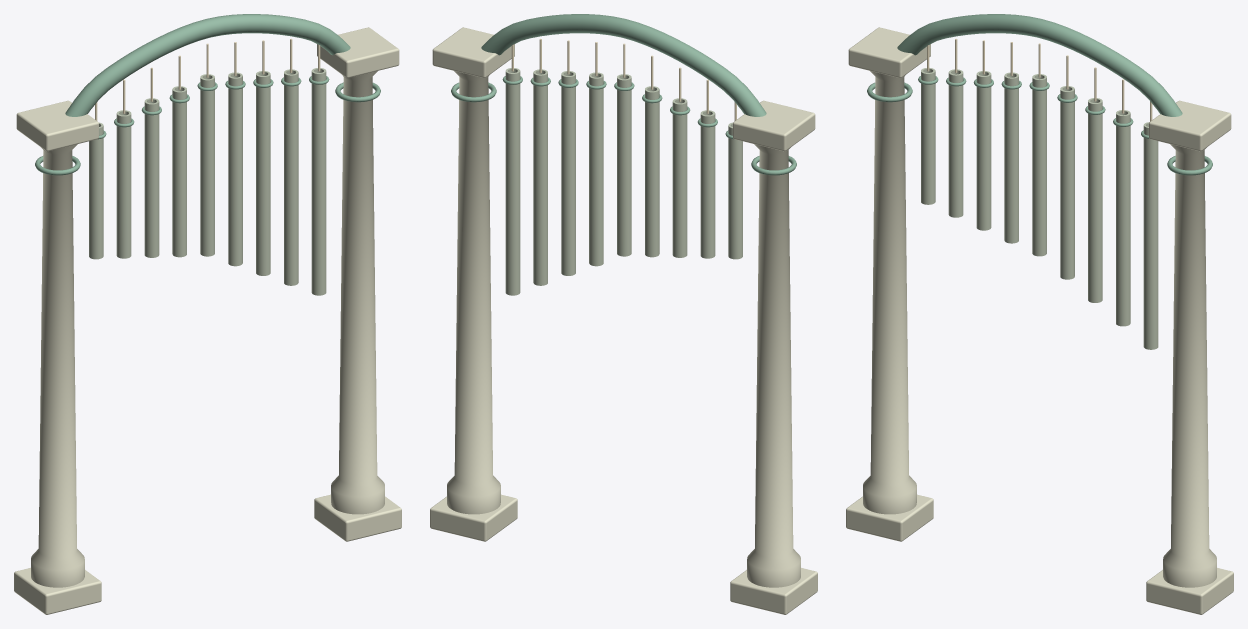
Rendered from enchanted-harp-garden-and-music-sanctuary-chime-arch-8f3b9687__30416.glb.
The picture shows the model from 3 angles, left to right: view 1: azimuth 30°, elevation 25°; view 2: azimuth 150°, elevation 25°; view 3: azimuth 330°, elevation 25°; orthographic projection.
Visible parts, largest first — view 1: chime-arch; view 2: chime-arch; view 3: chime-arch.
Boxes of the visible parts, x1,y1,x2,y2 form: chime-arch: (14,14,401,614); chime-arch: (430,14,817,614); chime-arch: (846,14,1233,614).
Bounding box in the file's own units: 2.14 × 3.1 × 0.3401.
